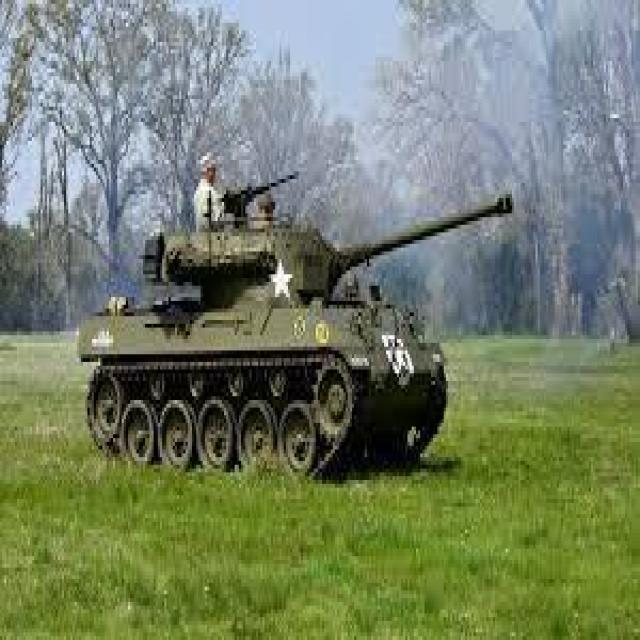Tanks: (63, 46, 526, 548)
